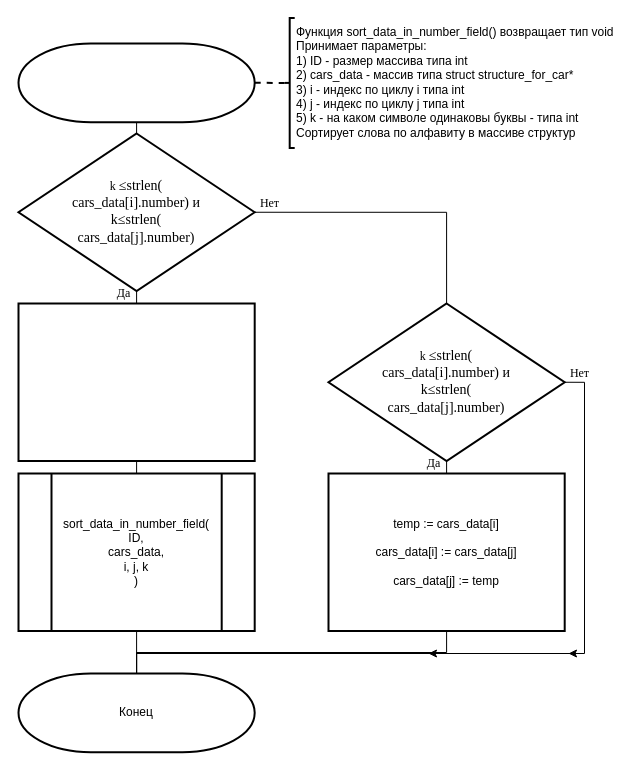
This 632x771 diagram has some shape labels left out. The box of each missing label's shape, as (x1, y1, x2, y2) in pixels:
k := k + 1: (17, 302, 255, 462)
void sort_data_in_number_field(): (17, 42, 255, 123)
